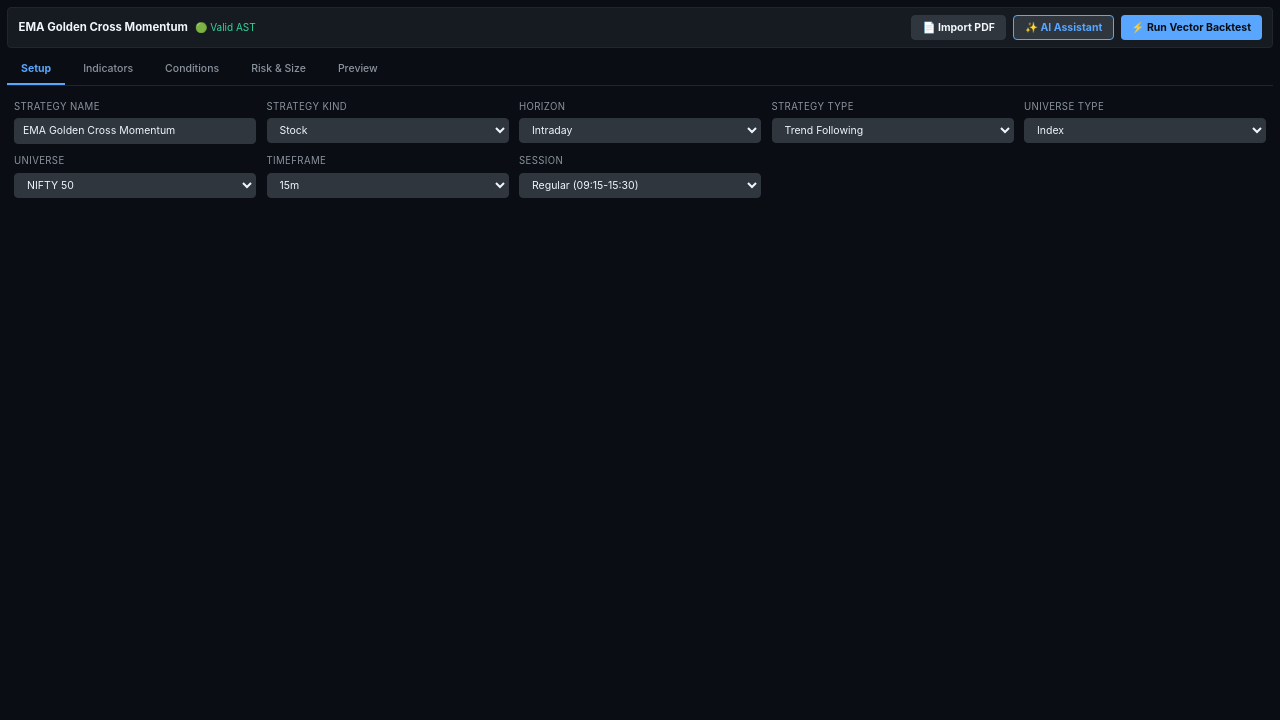
Scenario: StrategyBuilderWidget Component › renders canonical IR preview on the Preview tab
Click the tab with test id "tab-preview" at (358, 70), box top-left (324, 55), bottom-right (392, 85)
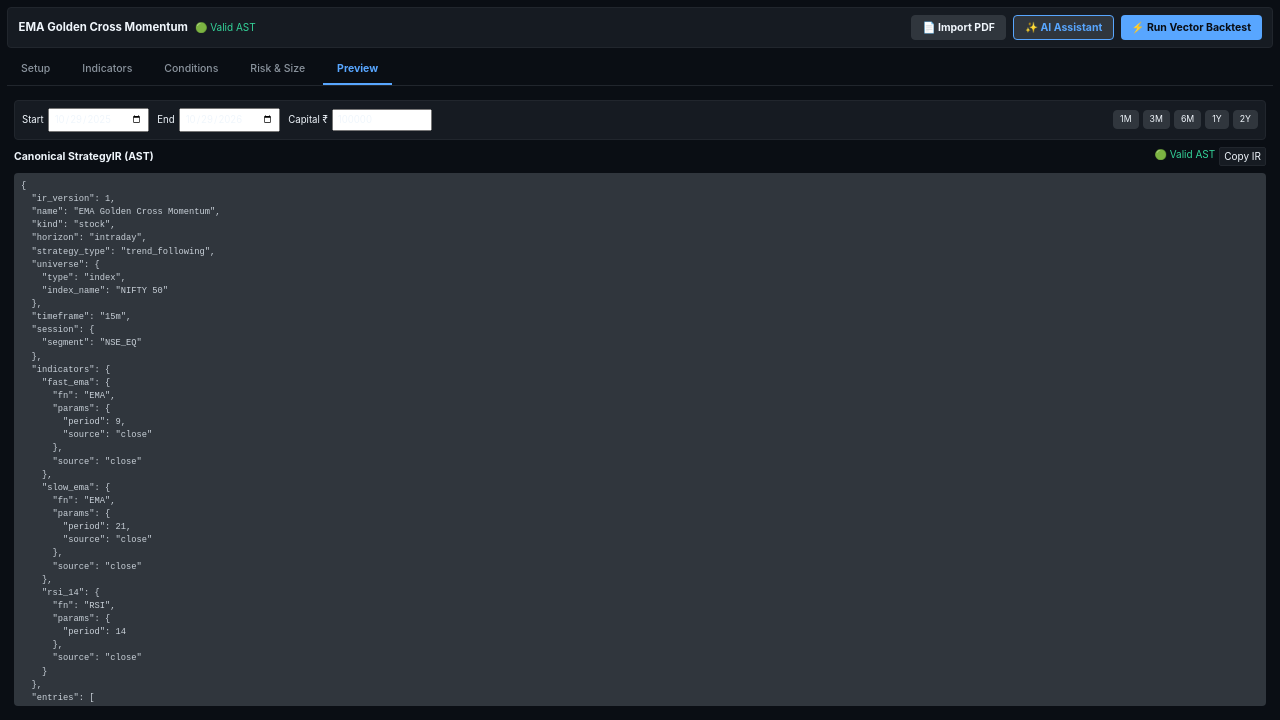
Result: the button "Copy IR" is shown at top-left (1219, 147), bottom-right (1266, 166)
